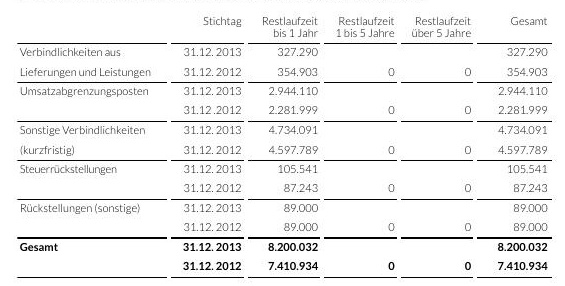table: (0, 0, 565, 286)
